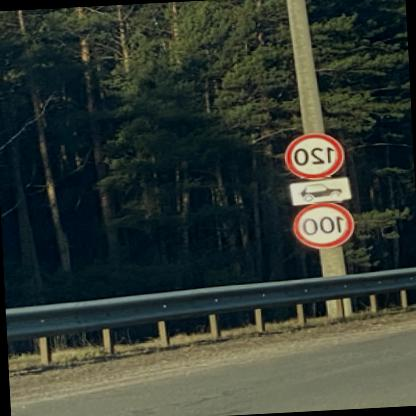speedlimit: (295, 200, 357, 249), (284, 130, 346, 179)
